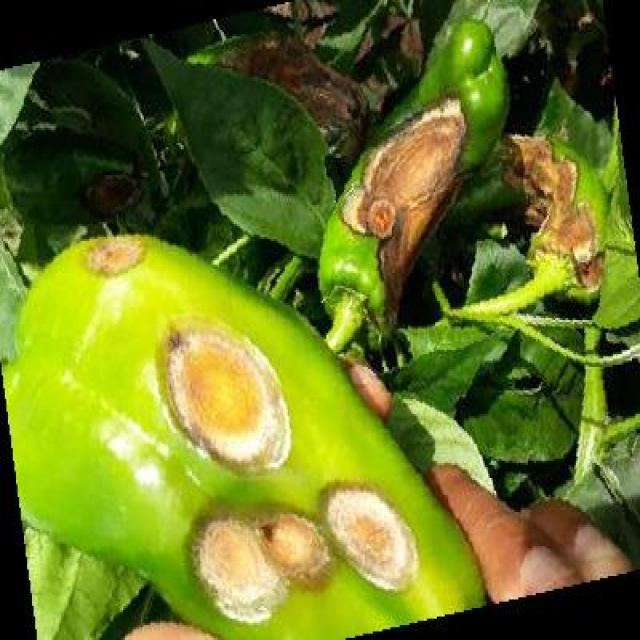Moko: (127, 491, 417, 594), (138, 300, 299, 475), (330, 84, 461, 296), (492, 130, 623, 331), (78, 214, 165, 285)
